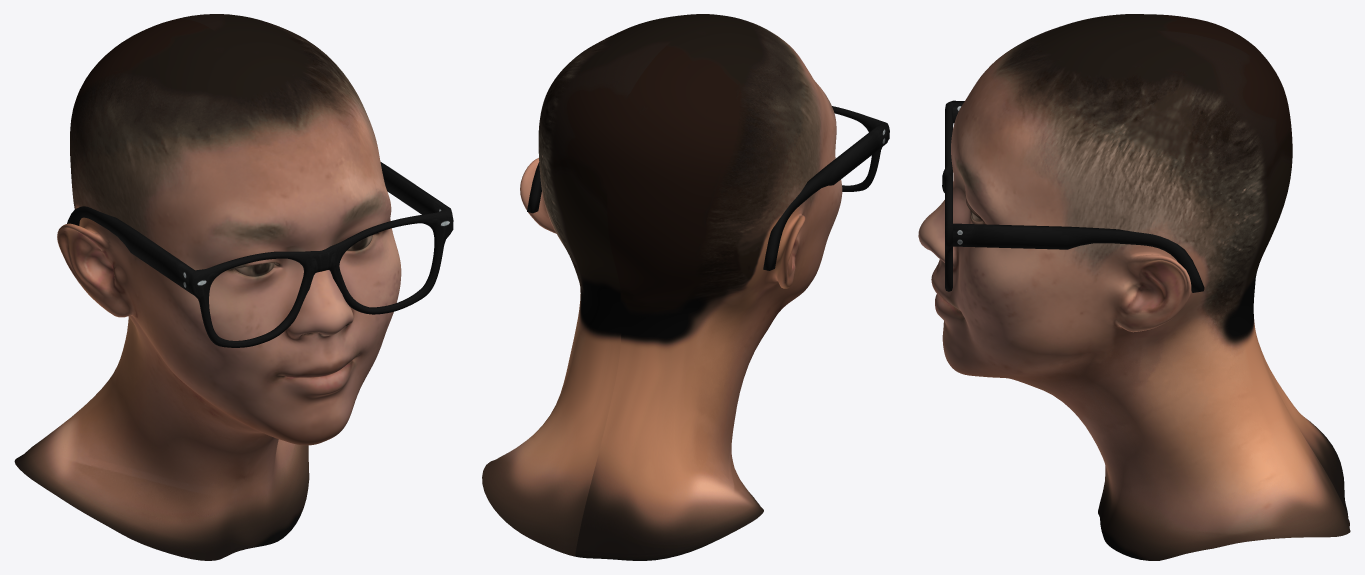
Rendered from my_face_no_stars.gltf.
The picture shows the model from 3 angles, left to right: view 1: azimuth 30°, elevation 25°; view 2: azimuth 150°, elevation 25°; view 3: azimuth 270°, elevation 25°; orthographic projection. The views are drawn at different scales.
Parts seen in each view (by area): view 1: FBHead, Glasses; view 2: FBHead, Glasses; view 3: FBHead, Glasses.
Part boxes in pixels (left/top/right/bottom): FBHead: left=14, top=14, right=401, bottom=560; Glasses: left=67, top=162, right=453, bottom=347; FBHead: left=482, top=14, right=842, bottom=560; Glasses: left=527, top=106, right=889, bottom=270; FBHead: left=918, top=14, right=1350, bottom=560; Glasses: left=942, top=100, right=1204, bottom=292.
Bounding box in the file's own units: 1.44 × 2.37 × 1.87.
Materials: 2 (2 with a texture image).
